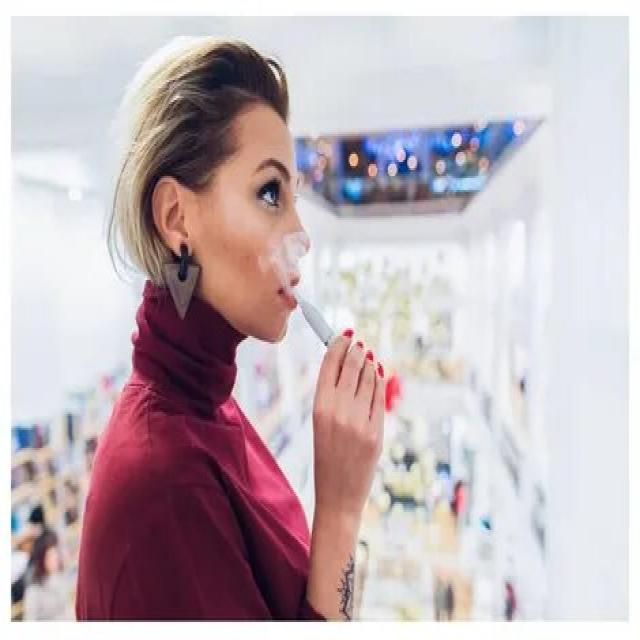smoke: (288, 282, 340, 358)
